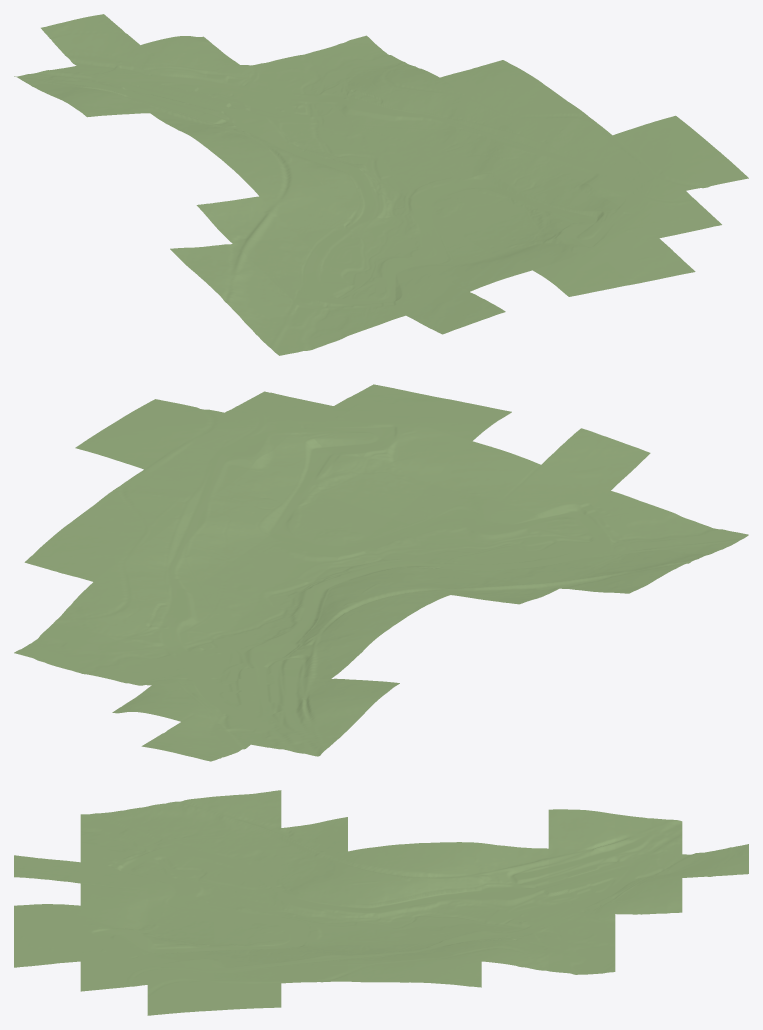
File: terrain_lod0.glb
The picture shows the model from 3 angles, top to bottom: view 1: azimuth 30°, elevation 25°; view 2: azimuth 150°, elevation 25°; view 3: azimuth 270°, elevation 25°; orthographic projection. The views are drawn at different scales.
Parts seen in each view (by area): view 1: t_5_13, t_5_7, t_8_8, t_8_9, t_4_7, t_8_7, t_7_9, t_9_7, t_9_4, t_8_6, t_7_8, t_8_3 (+43 smaller); view 2: t_6_4, t_7_4, t_5_3, t_8_10, t_5_4, t_8_5, t_7_5, t_4_4, t_6_5, t_8_7, t_8_6, t_9_9 (+43 smaller); view 3: t_6_8, t_5_10, t_5_9, t_4_11, t_6_9, t_3_6, t_3_5, t_5_11, t_4_12, t_5_8, t_4_6, t_6_10 (+43 smaller).
Boxes of the visible parts, x1,y1,x2,y2 form: t_5_13: [41, 14, 139, 65]; t_5_7: [260, 185, 359, 234]; t_8_8: [413, 103, 512, 159]; t_8_9: [377, 77, 475, 131]; t_4_7: [196, 196, 295, 243]; t_8_7: [450, 130, 548, 187]; t_7_9: [314, 101, 412, 153]; t_9_7: [513, 107, 611, 158]; t_9_4: [622, 190, 721, 238]; t_8_6: [486, 159, 585, 211]; t_7_8: [350, 132, 449, 181]; t_8_3: [596, 238, 695, 284]; t_6_4: [432, 441, 540, 502]; t_7_4: [363, 421, 471, 483]; t_5_3: [541, 428, 650, 490]; t_8_10: [54, 582, 162, 642]; t_5_4: [502, 465, 610, 526]; t_8_5: [254, 431, 362, 494]; t_7_5: [323, 457, 431, 518]; t_4_4: [571, 490, 679, 545]; t_6_5: [392, 484, 500, 539]; t_8_7: [174, 495, 282, 554]; t_8_6: [214, 464, 322, 525]; t_9_9: [24, 527, 133, 581]; t_6_8: [348, 880, 414, 922]; t_5_10: [481, 843, 548, 886]; t_5_9: [415, 842, 481, 885]; t_4_11: [548, 809, 615, 852]; t_6_9: [415, 880, 481, 921]; t_3_6: [214, 790, 281, 835]; t_3_5: [147, 796, 214, 841]; t_5_11: [548, 848, 615, 886]; t_4_12: [615, 814, 682, 854]; t_5_8: [348, 843, 414, 883]; t_4_6: [214, 828, 281, 867]; t_6_10: [481, 885, 548, 920].
Bounding box in the file's own units: 2048 × 151 × 2816.
